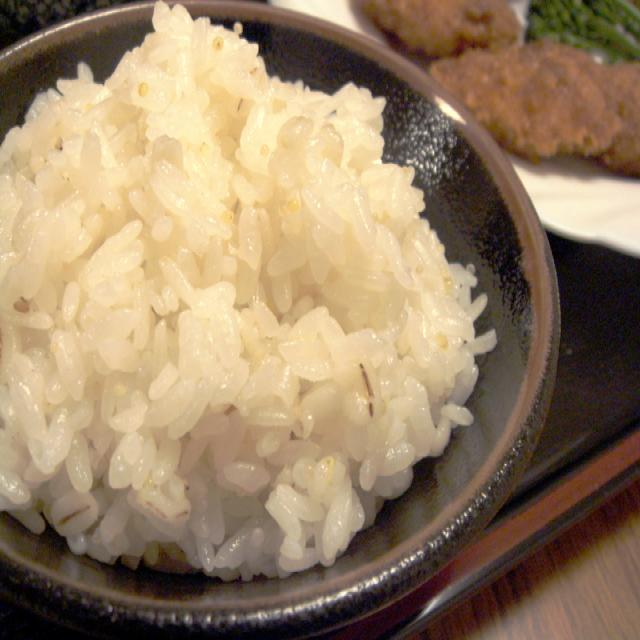rice: (0, 0, 500, 577)
